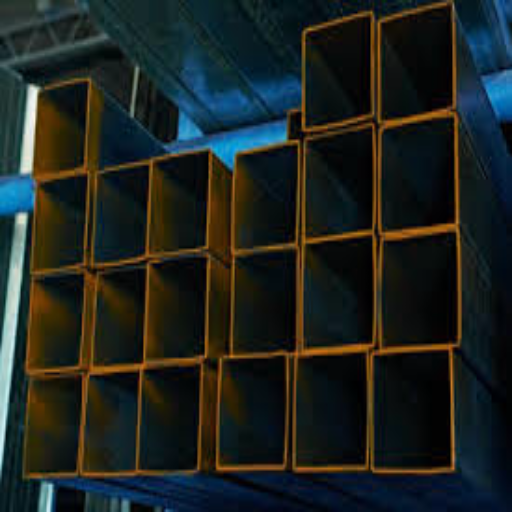Square: (372, 355, 453, 469), (382, 235, 458, 346), (294, 353, 366, 469), (382, 118, 455, 231), (380, 6, 451, 119), (304, 131, 373, 240), (302, 238, 371, 346), (218, 358, 286, 466), (233, 143, 299, 254), (305, 19, 371, 128), (233, 252, 295, 352), (149, 151, 209, 251), (147, 257, 205, 360), (140, 364, 198, 466), (84, 372, 137, 472), (24, 378, 79, 472), (30, 274, 83, 371), (95, 168, 148, 262), (93, 269, 144, 366), (34, 176, 85, 270), (35, 84, 85, 178), (289, 113, 301, 139)
